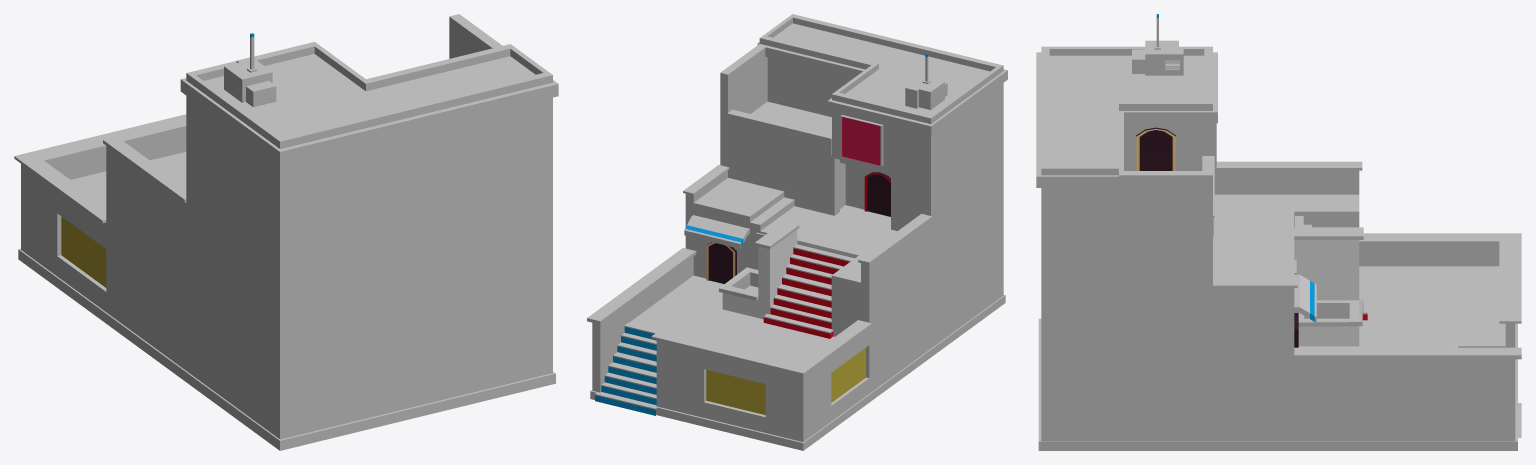
File: Building_Apartment02.fbx
3 renders of one model, left to right at view 1: azimuth 30°, elevation 25°; view 2: azimuth 150°, elevation 25°; view 3: azimuth 270°, elevation 25°, orthographic. The views are drawn at different scales.
Visible parts, largest first — view 1: Double House Platform 01; view 2: Double House Platform 01; view 3: Double House Platform 01.
Boxes of the visible parts, x1=… form: Double House Platform 01: x1=14, y1=14, x2=558, y2=450; Double House Platform 01: x1=587, y1=14, x2=1007, y2=450; Double House Platform 01: x1=1036, y1=14, x2=1521, y2=450.
Bounding box in the file's own units: 769 × 946 × 1263.
